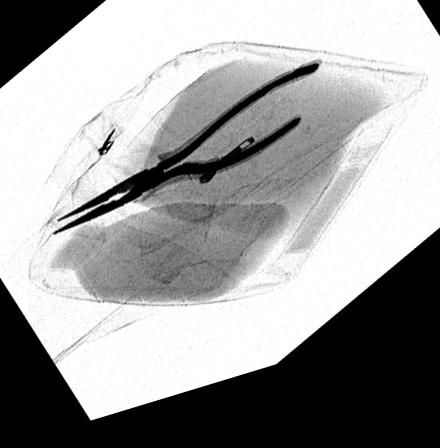Pliers: (50, 79, 319, 237)
